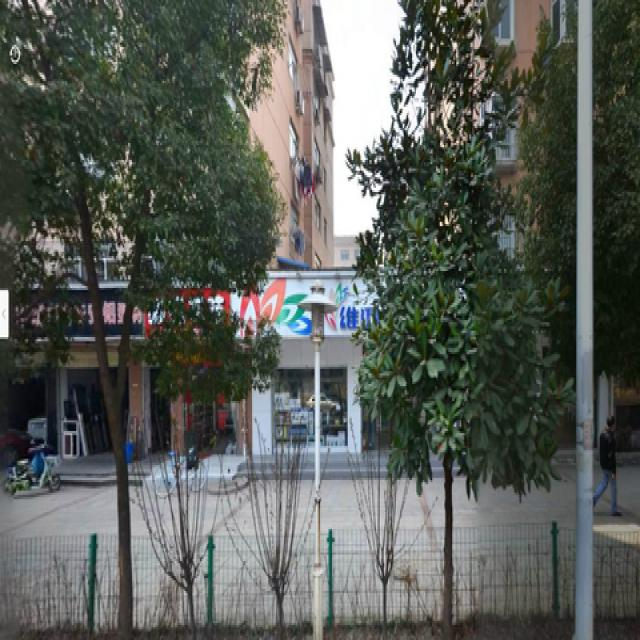magn: (362, 2, 530, 602)
